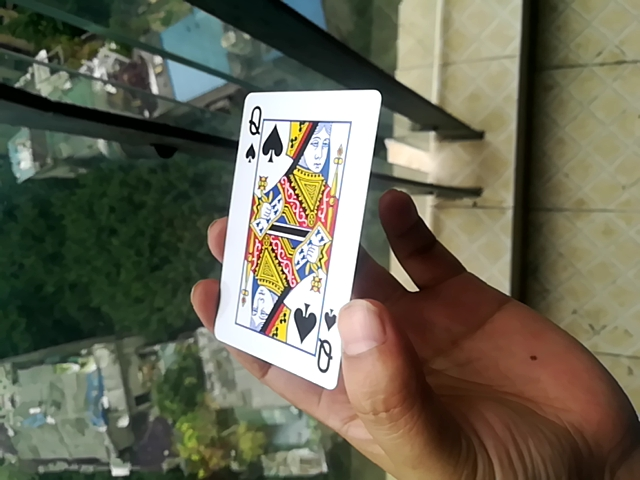ht q: (212, 86, 378, 389)
